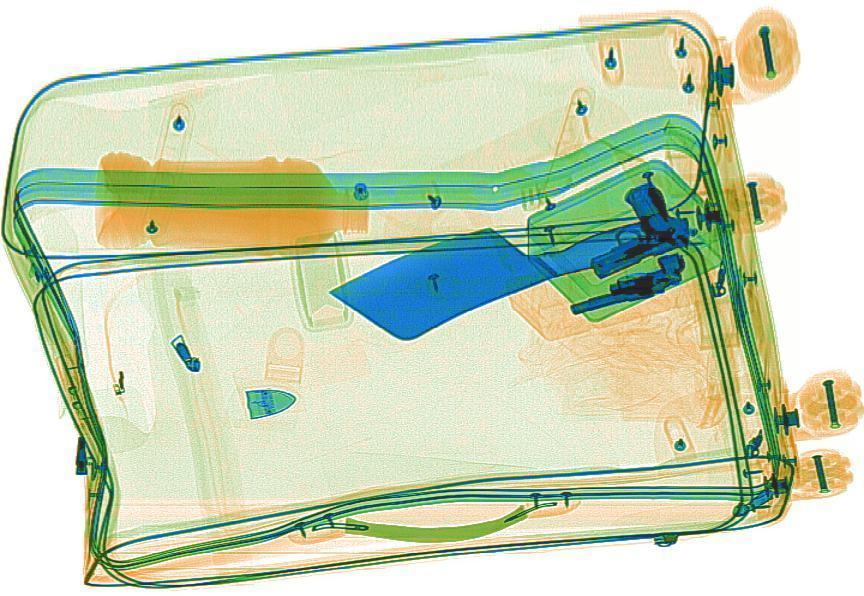Gun: (553, 176, 706, 277), (550, 240, 699, 328)
Knife: (320, 175, 696, 357)
